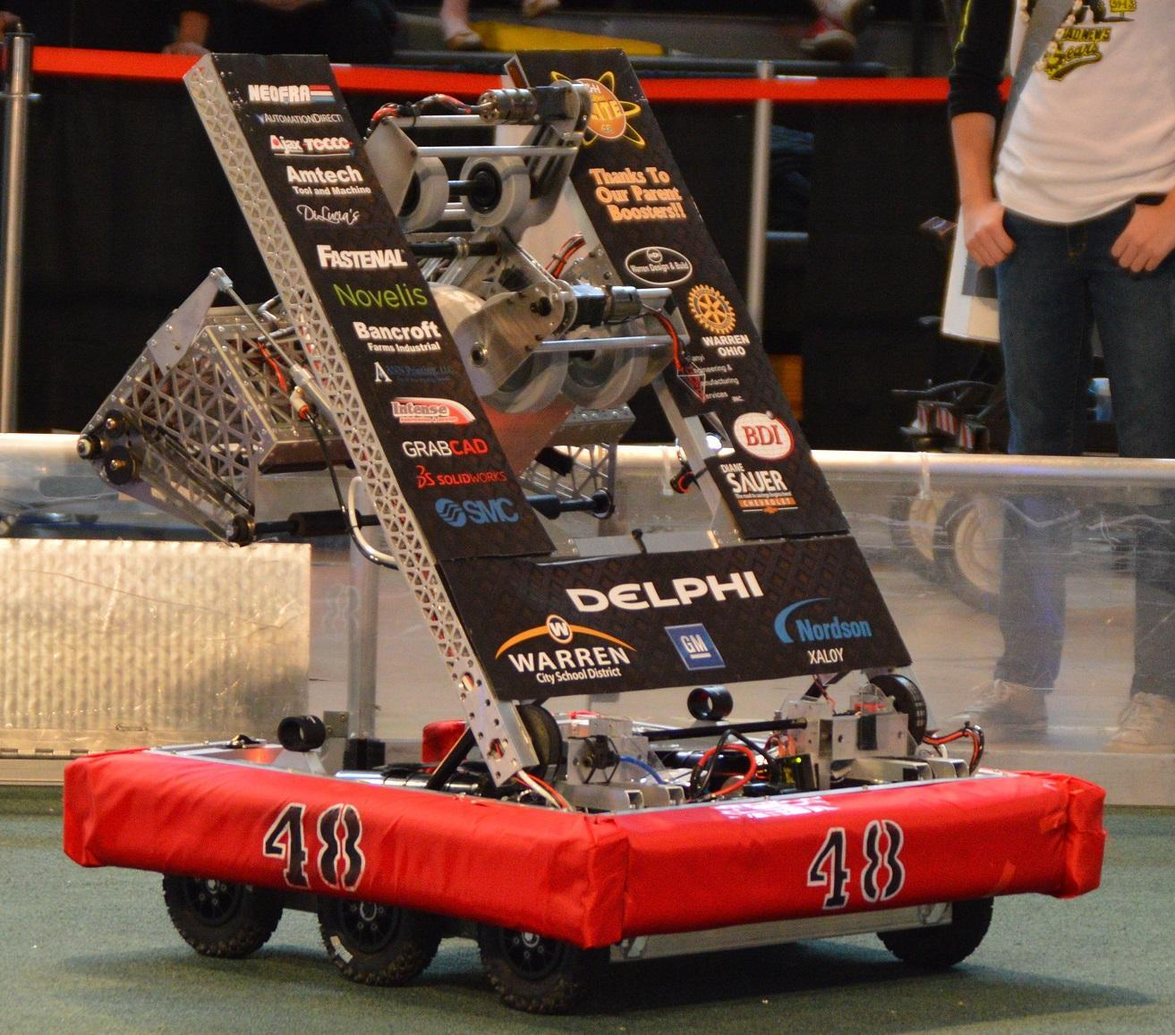robot: (54, 28, 1120, 1024)
